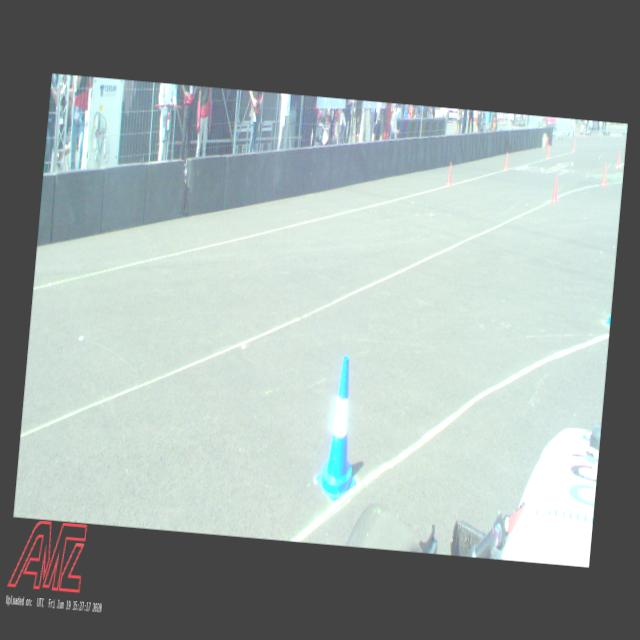blue_cone: (314, 354, 366, 502)
unknown_cone: (550, 174, 560, 203), (446, 162, 454, 185), (600, 163, 608, 186), (503, 151, 509, 170), (616, 152, 620, 168), (546, 144, 550, 158), (572, 140, 576, 152)
